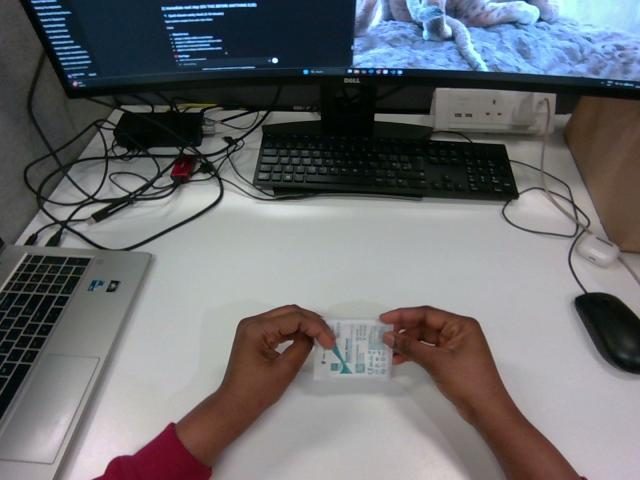gauze: (314, 319, 392, 379)
